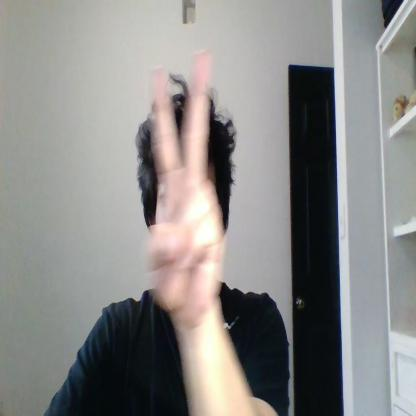V: (143, 47, 224, 314)
